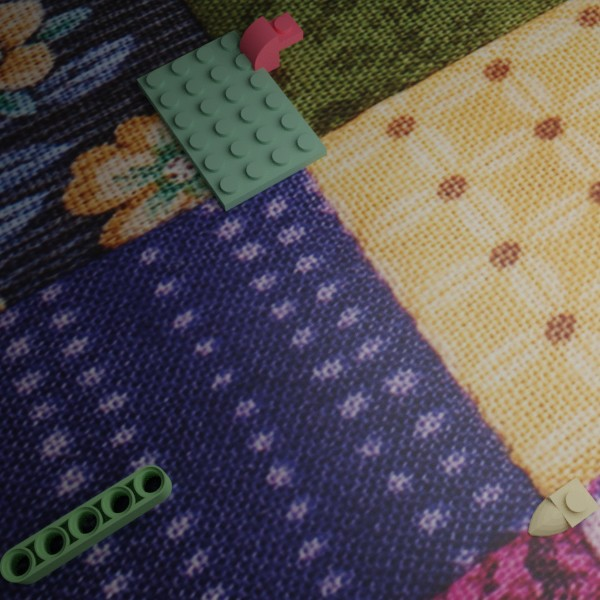lego: (136, 29, 327, 211), (0, 464, 171, 584), (527, 477, 600, 536), (239, 12, 303, 78)
